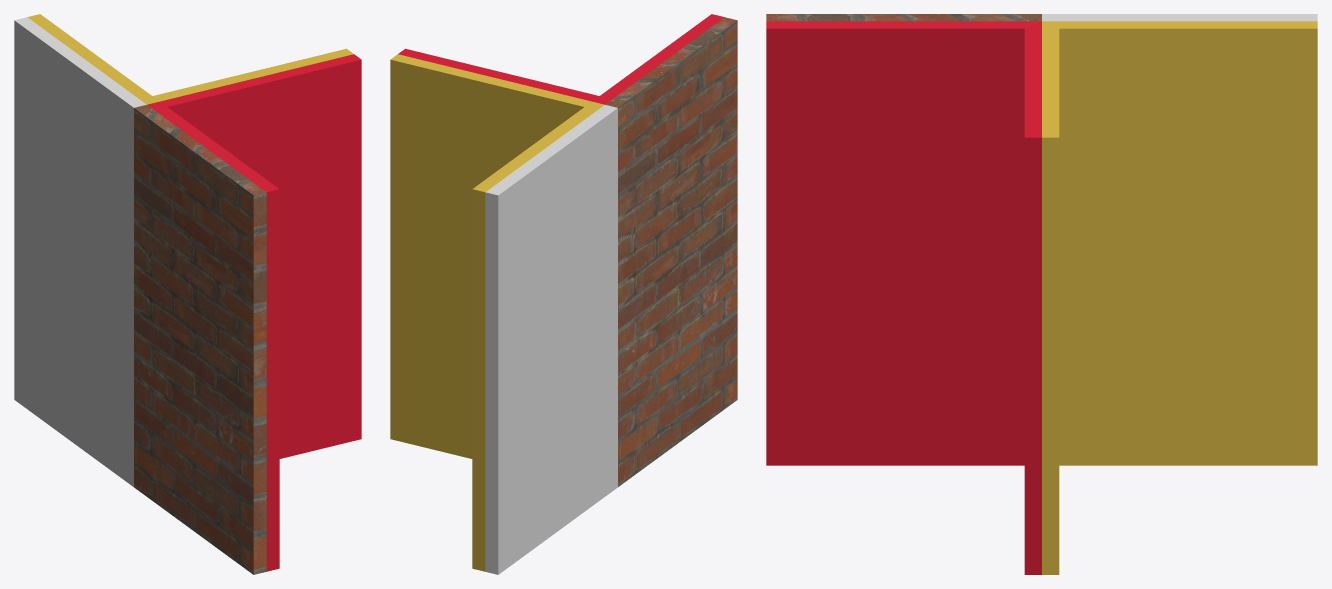
The model's file is T_wall_complete.fbx.
3 renders of one model, left to right at view 1: azimuth 30°, elevation 25°; view 2: azimuth 150°, elevation 25°; view 3: azimuth 270°, elevation 25°, orthographic. The views are drawn at different scales.
Visible parts, largest first — view 1: T wall; view 2: T wall; view 3: T wall.
Part boxes in pixels (bbox=[...]): T wall: bbox=[14, 14, 361, 574]; T wall: bbox=[390, 14, 737, 574]; T wall: bbox=[766, 14, 1317, 574].
Size of the model in its own units: 425 by 700 by 800.
